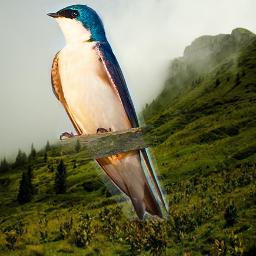Swallow: (46, 3, 169, 221)
